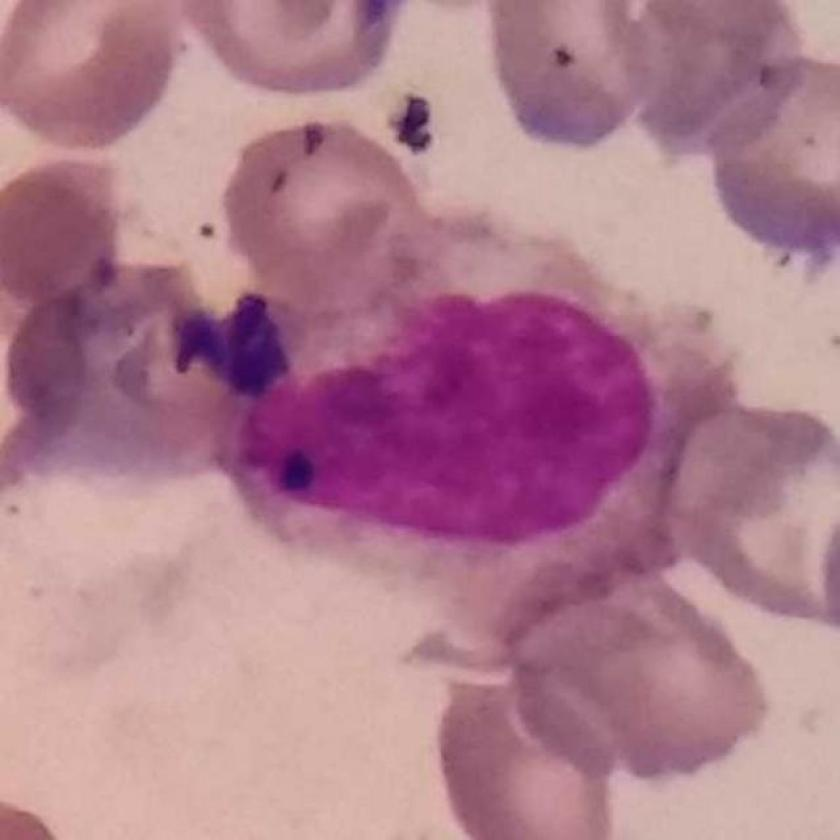monocyte: (218, 211, 757, 626)
